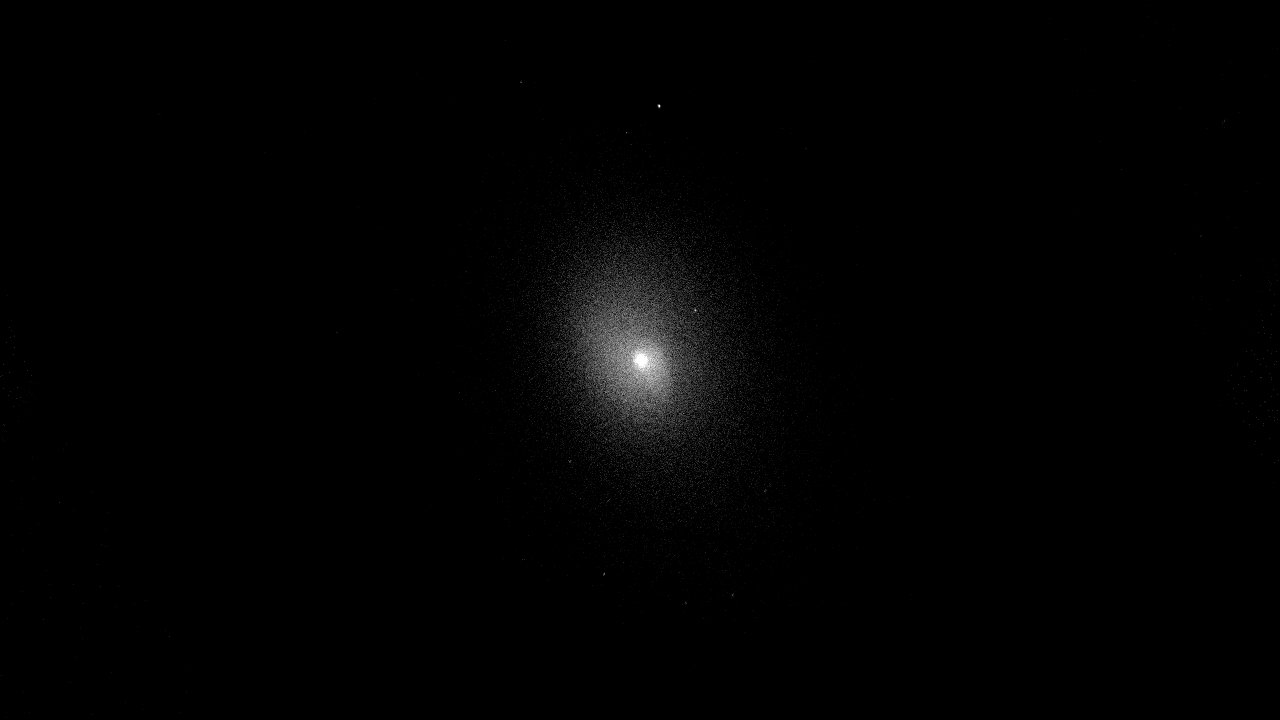Galaxy: (513, 221, 768, 473)
